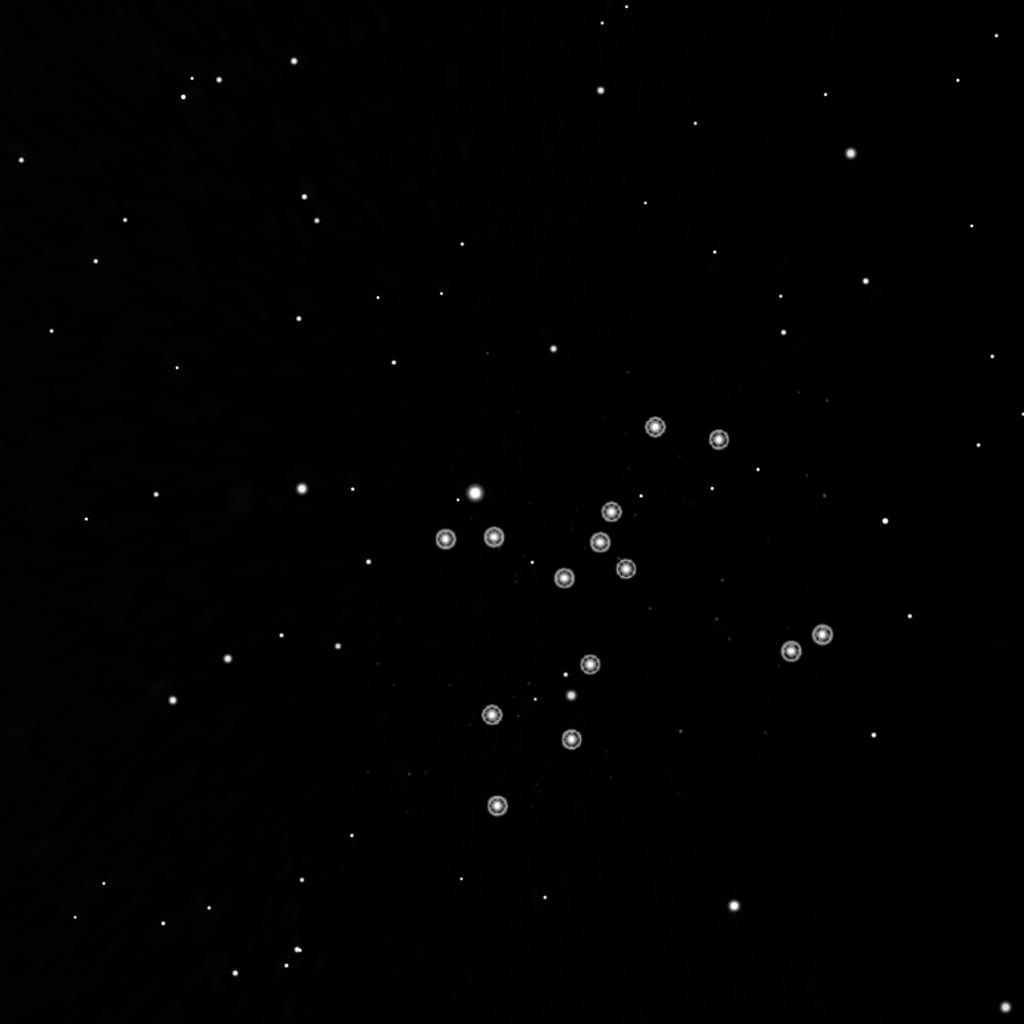canis_major: (547, 413, 734, 597)
